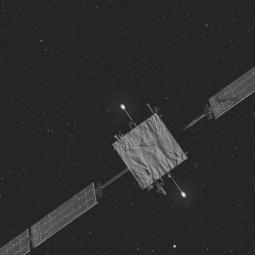smart_1: (100, 89, 203, 214)
